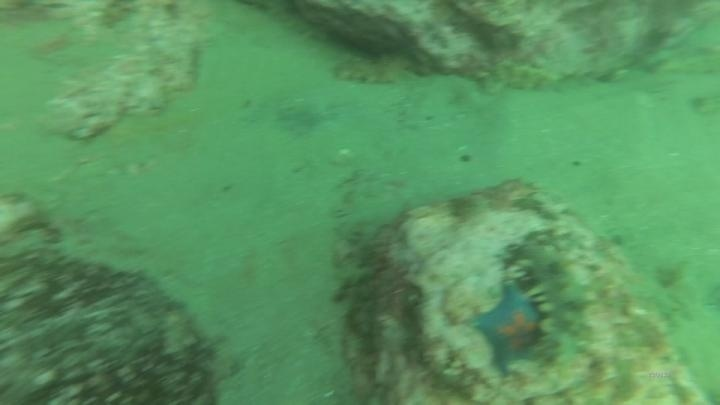holothurian: (507, 240, 596, 371), (327, 50, 421, 89), (485, 57, 566, 96)
starfish: (470, 280, 550, 379)
